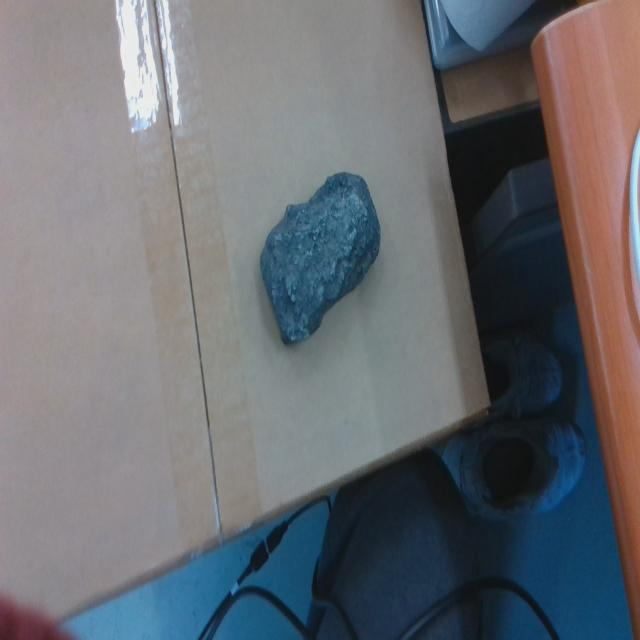stone: (260, 172, 382, 350)
